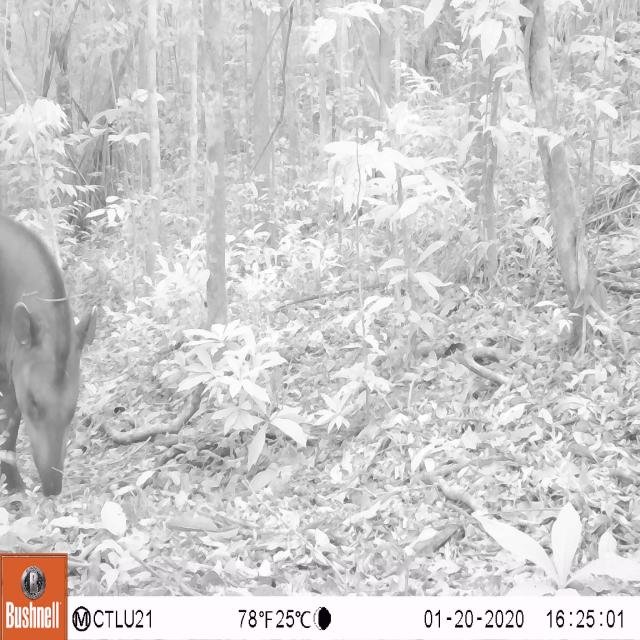Lowland Tapir: (0, 207, 104, 506)
